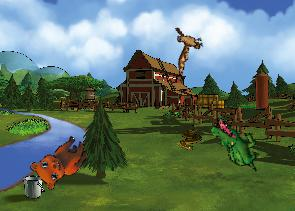bear: (25, 125, 93, 195)
crocodile: (201, 115, 270, 173)
eagle: (161, 20, 211, 76)
